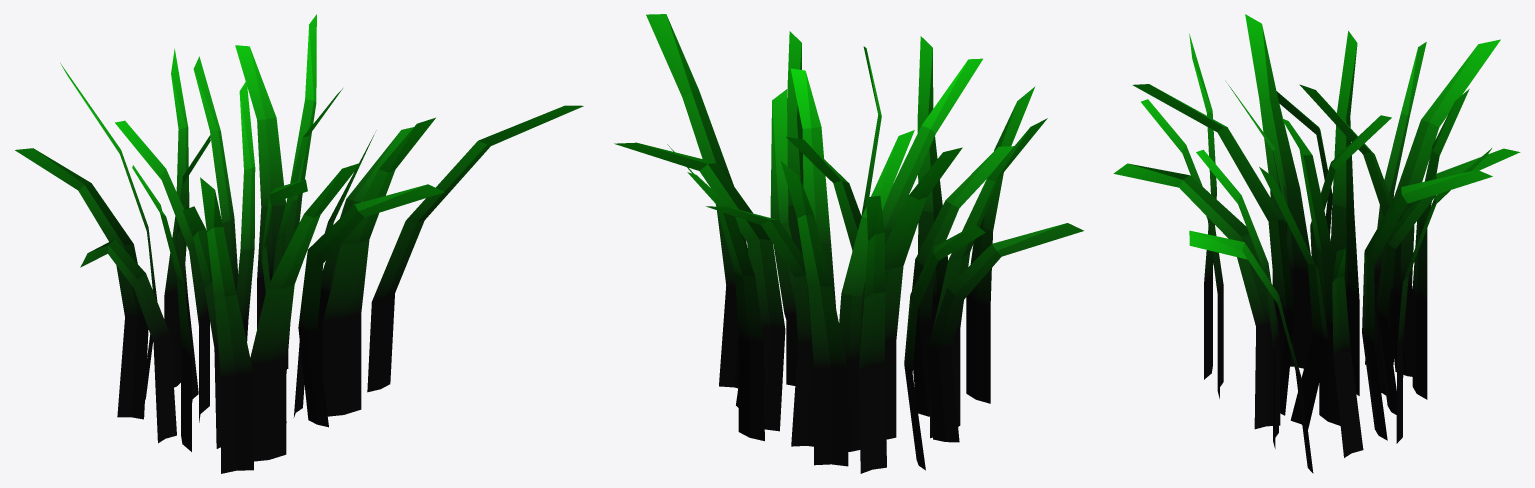
Rendered from SM_Grass_02.fbx.
The picture shows the model from 3 angles, left to right: view 1: azimuth 30°, elevation 25°; view 2: azimuth 150°, elevation 25°; view 3: azimuth 270°, elevation 25°; orthographic projection.
Parts seen in each view (by area): view 1: SM_Grass_02; view 2: SM_Grass_02; view 3: SM_Grass_02.
Boxes of the visible parts, x1,y1,x2,y2 form: SM_Grass_02: [15, 14, 583, 473]; SM_Grass_02: [614, 14, 1083, 473]; SM_Grass_02: [1113, 14, 1520, 473].
Size of the model in its own units: 154 by 101 by 115.
